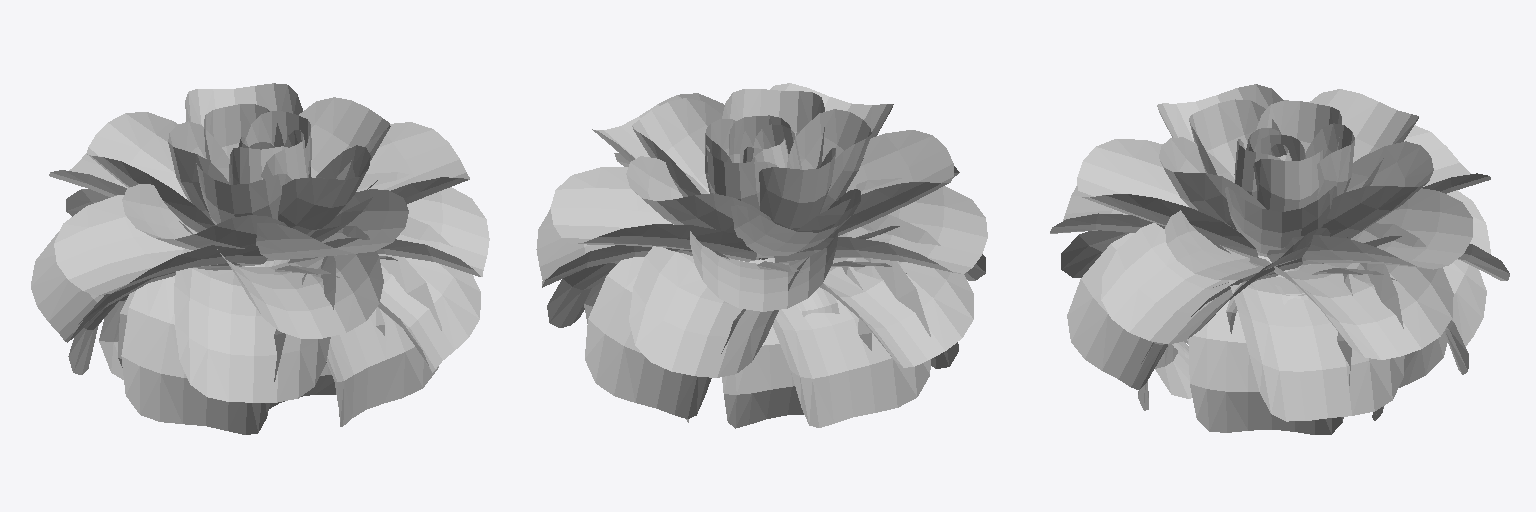
Rendered from FlowerTopModel_03_seq_0059.obj.
3 views of the same model, side by side, from view 1: azimuth 30°, elevation 25°; view 2: azimuth 150°, elevation 25°; view 3: azimuth 270°, elevation 25° (orthographic).
Parts seen in each view (by area): view 1: FlowerTopModel_03; view 2: FlowerTopModel_03; view 3: FlowerTopModel_03.
Boxes of the visible parts, box(x1,y1,x2,y2) form: FlowerTopModel_03: box(31, 83, 489, 434); FlowerTopModel_03: box(536, 83, 987, 428); FlowerTopModel_03: box(1050, 84, 1509, 434).
Size of the model in its own units: 918 by 550 by 940.